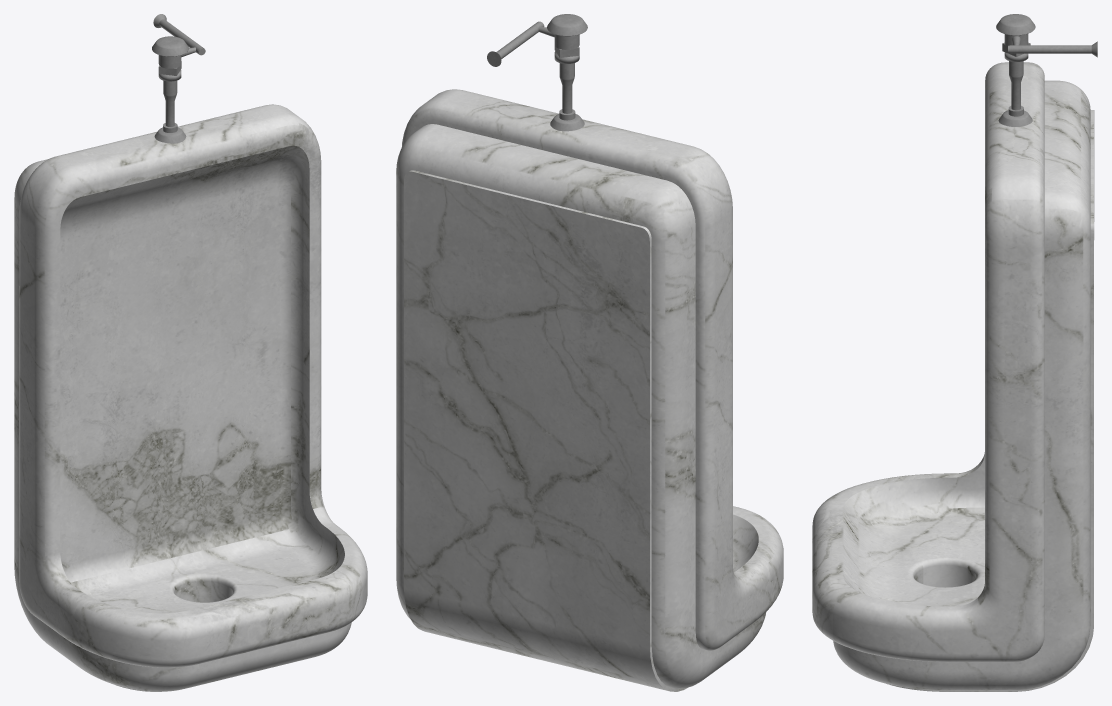
File: urinal.glb
3 views of the same model, side by side, from view 1: azimuth 30°, elevation 25°; view 2: azimuth 150°, elevation 25°; view 3: azimuth 270°, elevation 25° (orthographic). The views are drawn at different scales.
Visible parts, largest first — view 1: Cylinder; view 2: Cylinder; view 3: Cylinder.
Boxes of the visible parts, box(x1,y1,x2,y2) form: Cylinder: box(14, 14, 367, 691); Cylinder: box(396, 14, 783, 691); Cylinder: box(812, 14, 1097, 691).
Bounding box in the file's own units: 2.38 × 4.66 × 1.95.
1 material, 1 textured.
